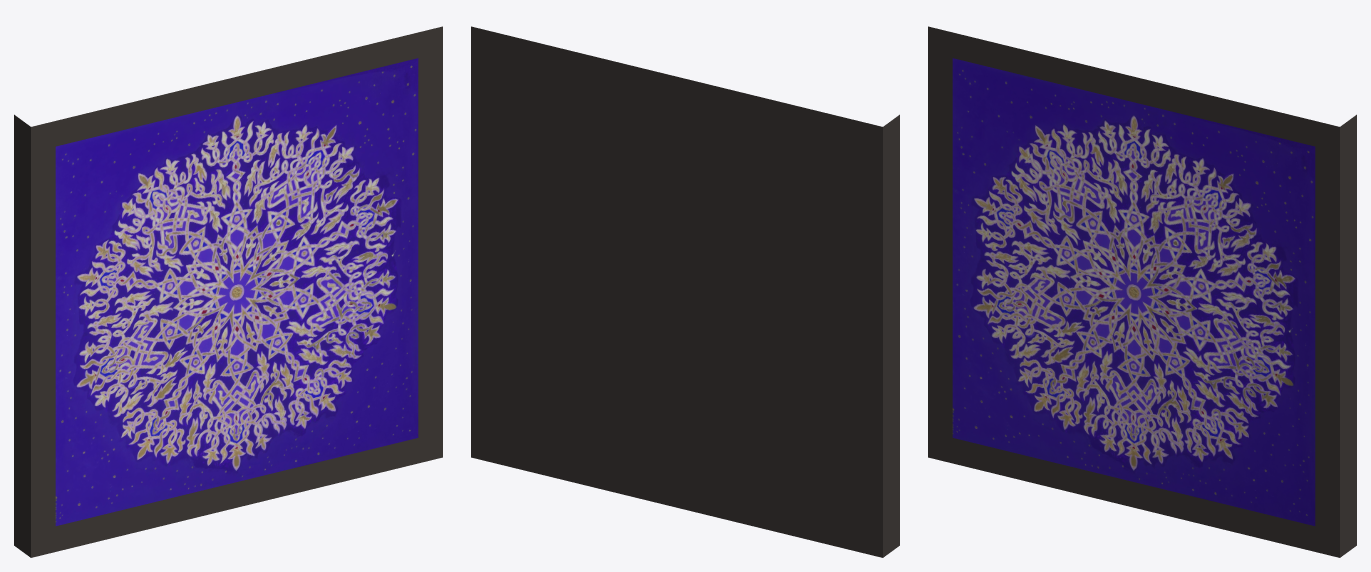
Rendered from slipper-orchids-v1.glb.
3 renders of one model, left to right at view 1: azimuth 30°, elevation 25°; view 2: azimuth 150°, elevation 25°; view 3: azimuth 330°, elevation 25°, orthographic.
Parts seen in each view (by area): view 1: FramedPrint; view 2: FramedPrint; view 3: FramedPrint.
Boxes of the visible parts, x1,y1,x2,y2 form: FramedPrint: (14,26,442,557); FramedPrint: (471,26,899,557); FramedPrint: (928,26,1356,557).
Bounding box in the file's own units: 0.42 × 0.42 × 0.03.
Materials: 2 (1 with a texture image).
